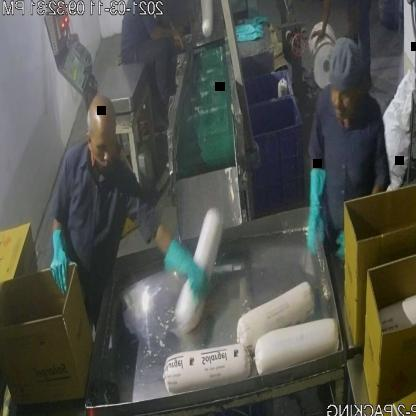glove: (158, 224, 210, 315), (300, 168, 330, 260), (45, 219, 78, 296)
no_glove: (310, 0, 336, 50), (151, 18, 185, 50)
